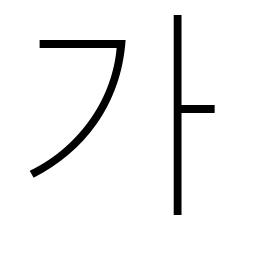Gaji: (154, 92, 200, 131)
